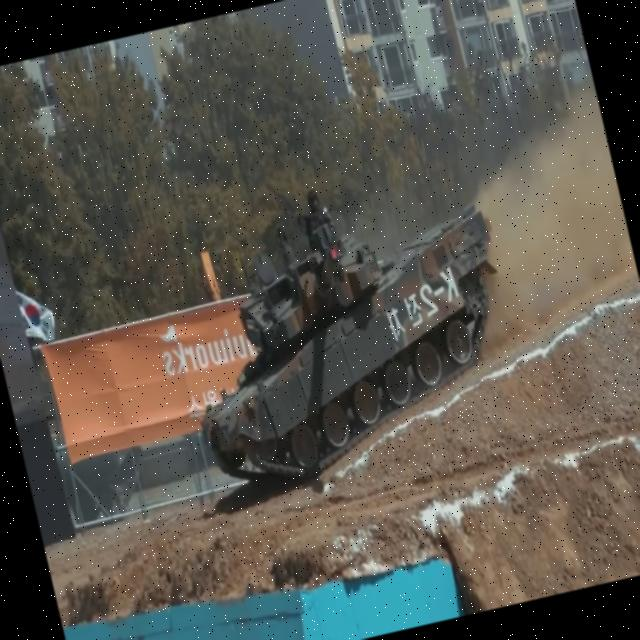korea tank: (153, 150, 540, 503)
